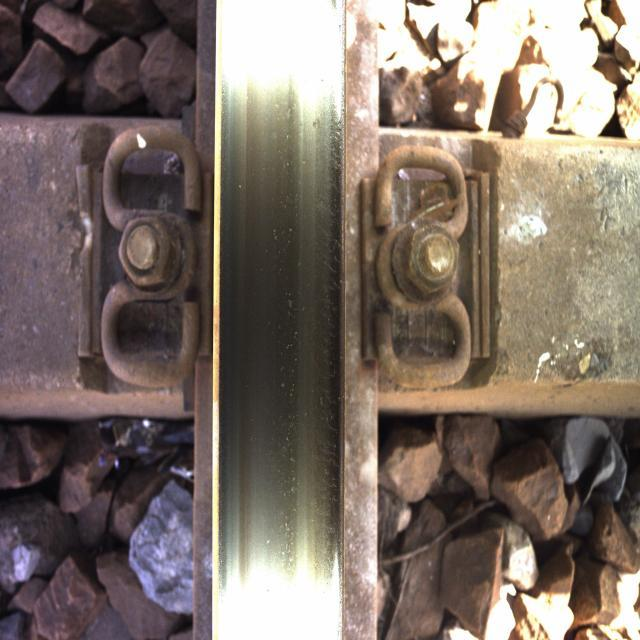break: (236, 31, 332, 619)
